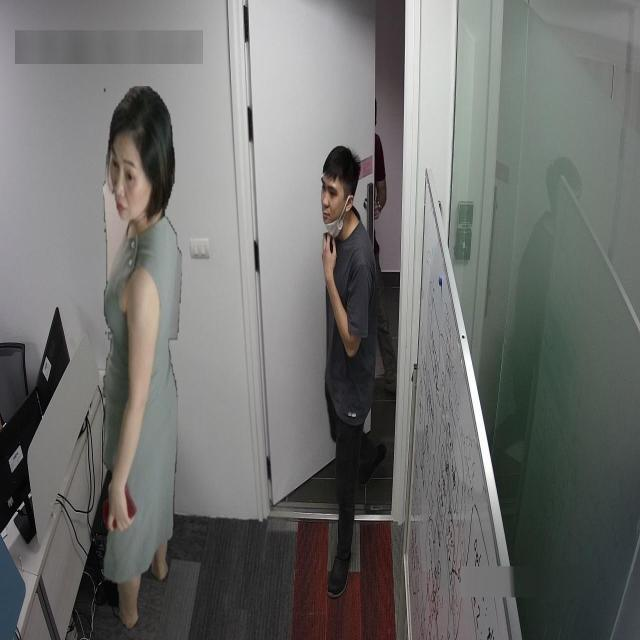hairnet: (318, 172, 343, 234)
